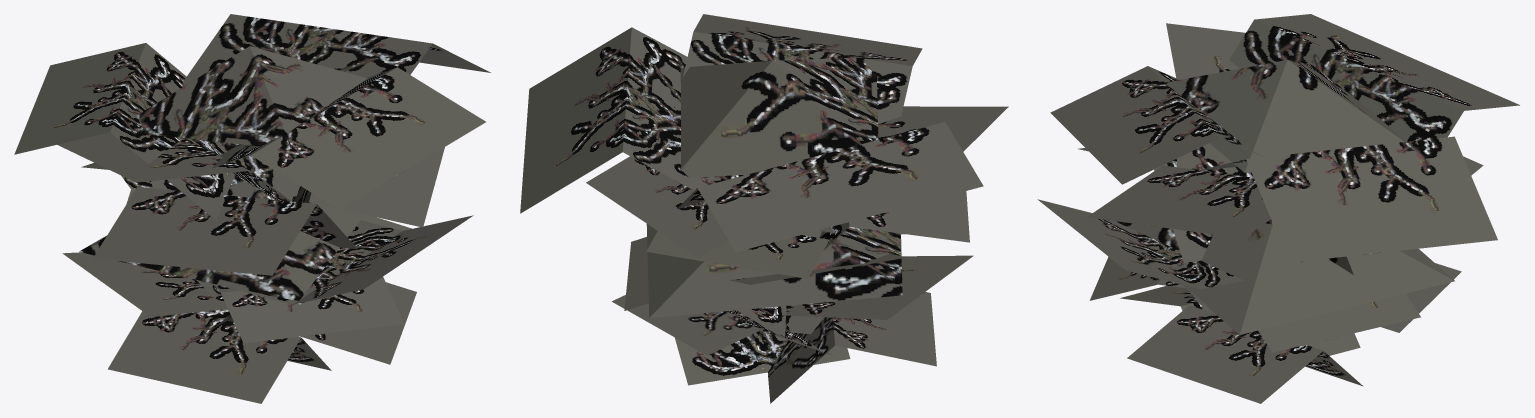
The model's file is flora_tree_bush_temperate_winter_v4.glb.
The picture shows the model from 3 angles, left to right: view 1: azimuth 30°, elevation 25°; view 2: azimuth 150°, elevation 25°; view 3: azimuth 270°, elevation 25°; orthographic projection.
Visible parts, largest first — view 1: flora_tree_bush_temperate_winter_v4_part0; view 2: flora_tree_bush_temperate_winter_v4_part0; view 3: flora_tree_bush_temperate_winter_v4_part0.
Part boxes in pixels (x1=…): flora_tree_bush_temperate_winter_v4_part0: x1=14, y1=14, x2=490, y2=403; flora_tree_bush_temperate_winter_v4_part0: x1=520, y1=14, x2=1008, y2=403; flora_tree_bush_temperate_winter_v4_part0: x1=1037, y1=14, x2=1519, y2=403.
Bounding box in the file's own units: 9.06 × 5.72 × 8.23.
1 material, 1 textured.
